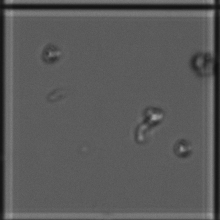Dead Cell: (188, 50, 215, 76), (39, 42, 63, 64)
Living Cell: (138, 103, 167, 129), (172, 137, 195, 158)
